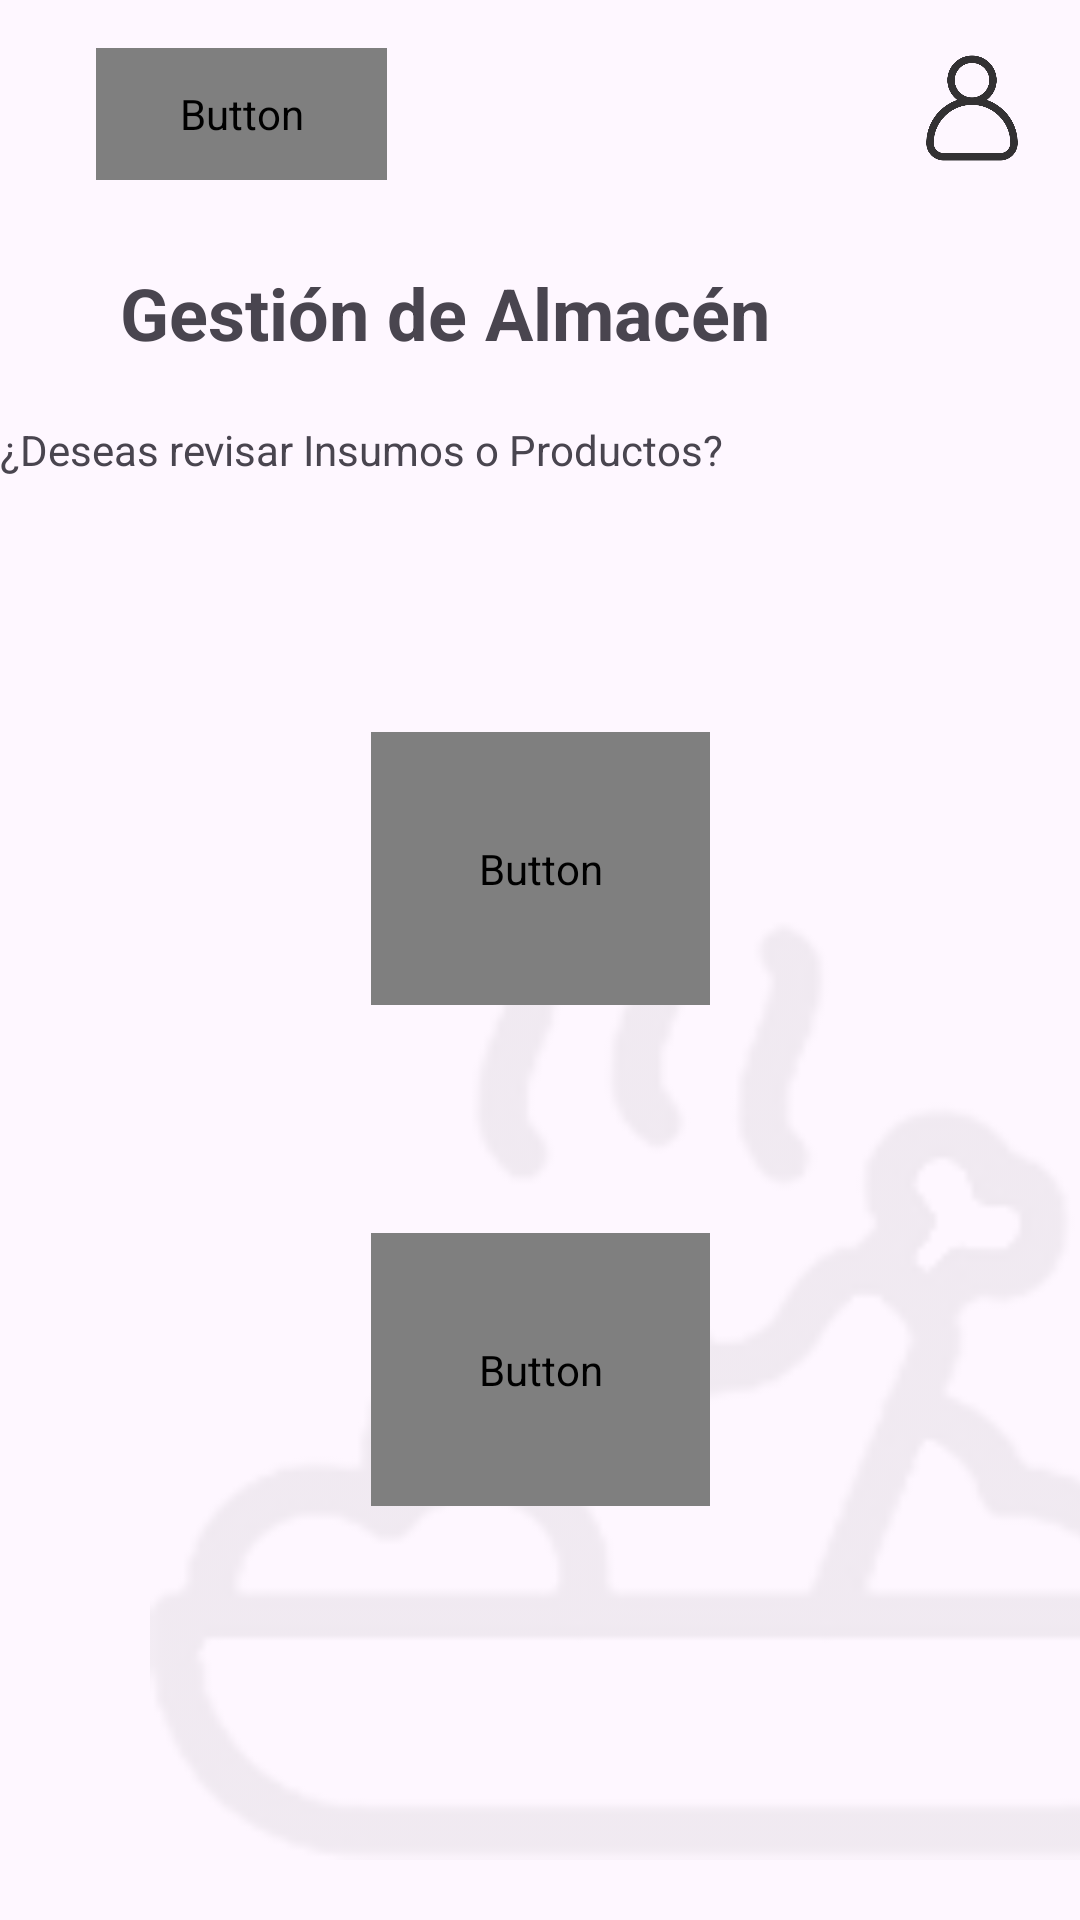

Icon click points for this 1080px×1920px phone screenshot, format point (x, y):
usuario: point (972, 108)
